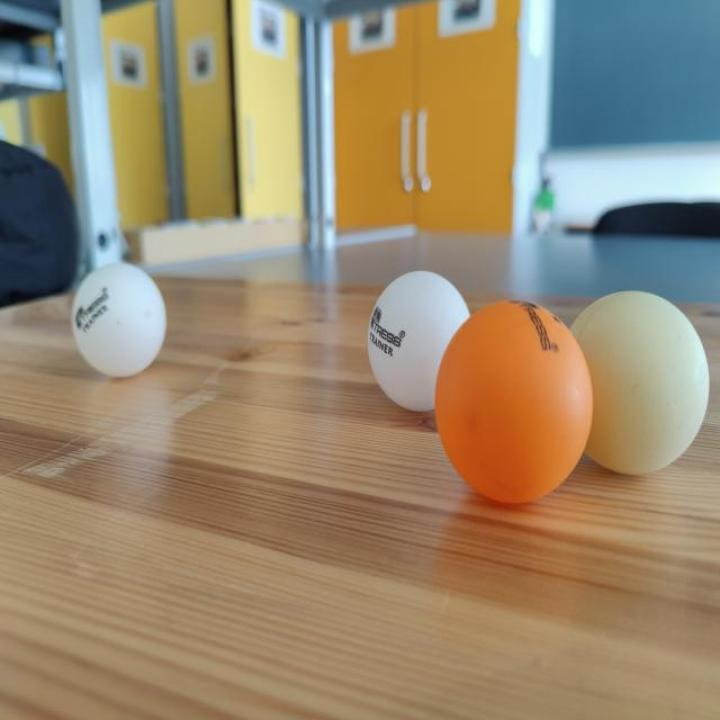orange: (432, 301, 596, 507)
white: (569, 291, 712, 478), (367, 271, 471, 415), (68, 262, 166, 378)
